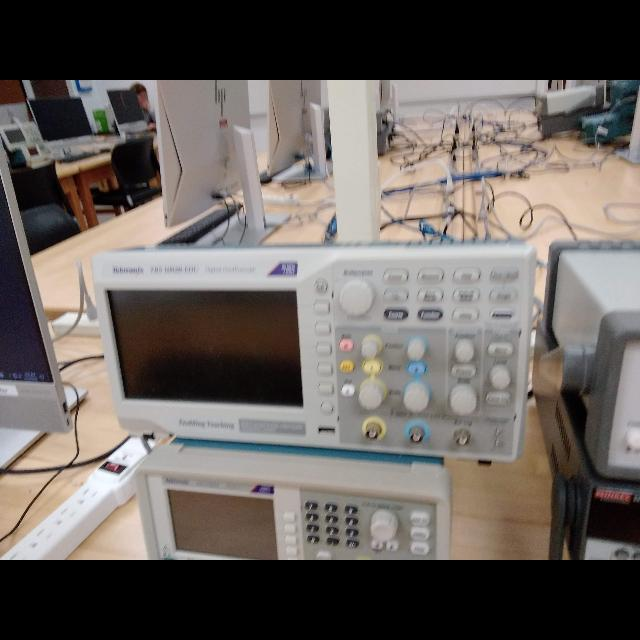Digital-Oscilloscope: (89, 246, 534, 459)
